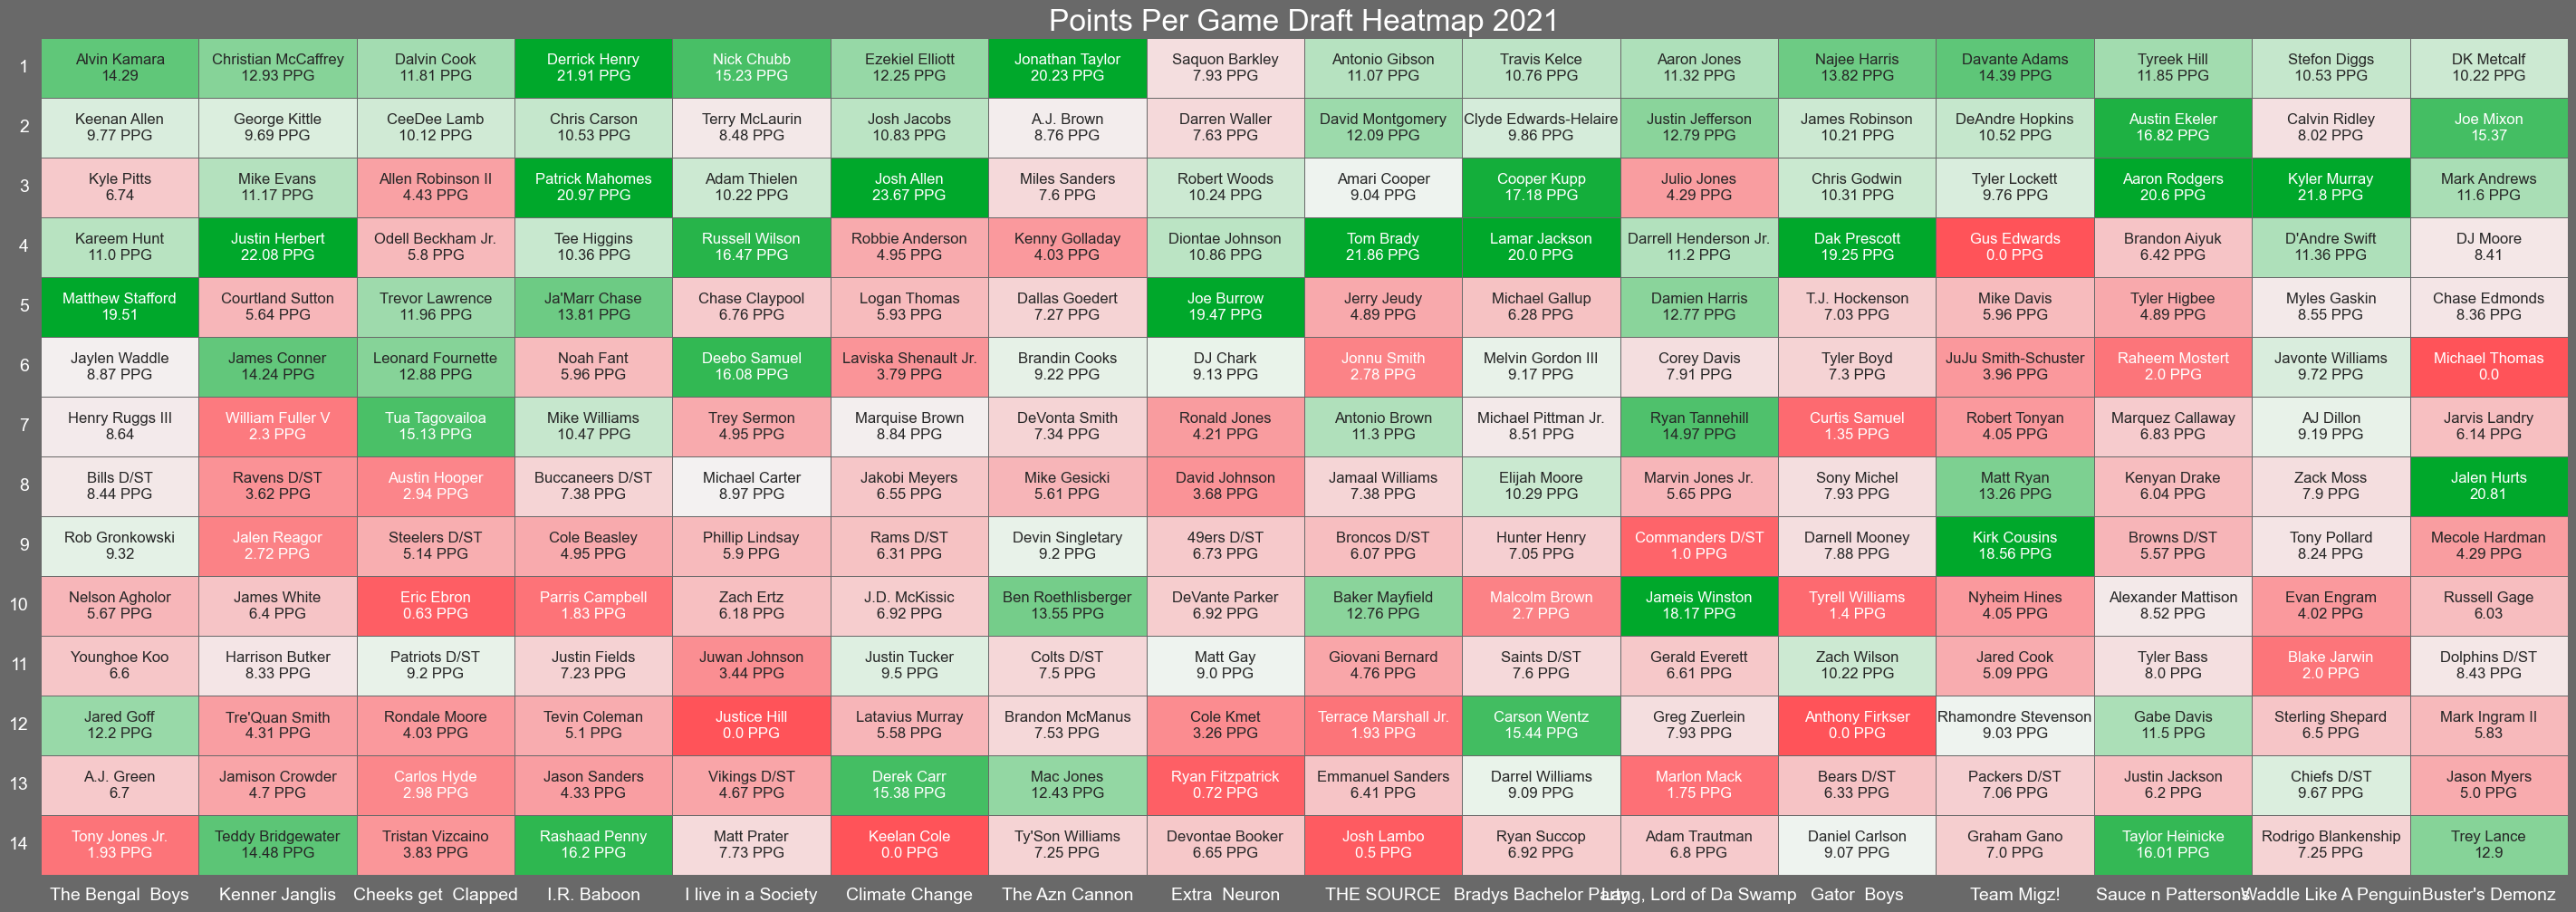

The page's visual inventory and layout, read from the dashboard file:
{"tool":"powerbi","page":{"name":"Page 3","canvas":[1280,720],"ordinal":2},"visuals":[{"type":"pivotTable","fields":{"Rows":["Query1.round","Query1.playername"],"Columns":["Query1.pick"],"Values":["Sum(Query1.total)"]},"box":[0,0,1280,720],"z":1}]}

Visuals, with their boxes on the page's 1280x720 design canvas (x1, y1, x2, y2). These are canvas units, not pixel positions in the 2576x912 screenshot, which may show the page scaled, cropped or inside an application window:
pivotTable - Query1.round x Query1.playername: bbox(0, 0, 1280, 720)
